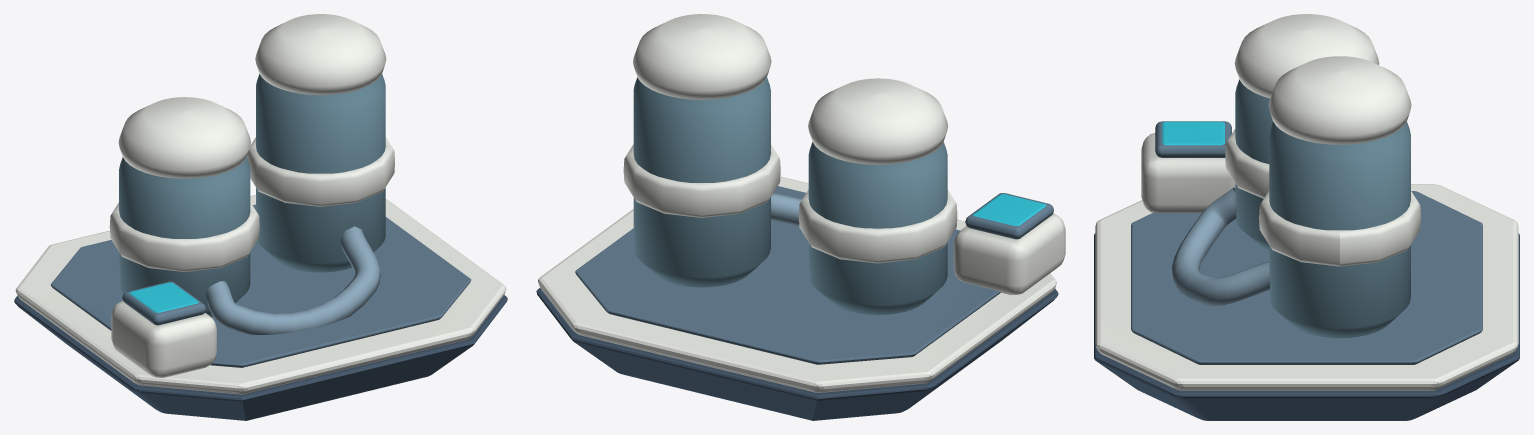
The model's file is heavy_element_refinery_lv1.glb.
3 renders of one model, left to right at view 1: azimuth 30°, elevation 25°; view 2: azimuth 150°, elevation 25°; view 3: azimuth 270°, elevation 25°, orthographic. The views are drawn at different scales.
Visible parts, largest first — view 1: Structure; view 2: Structure; view 3: Structure.
Boxes of the visible parts, <box> form: Structure: <box>14,14,507,420</box>; Structure: <box>536,14,1065,420</box>; Structure: <box>1094,14,1519,420</box>.
Size of the model in its own units: 6 by 4.4 by 5.41.
